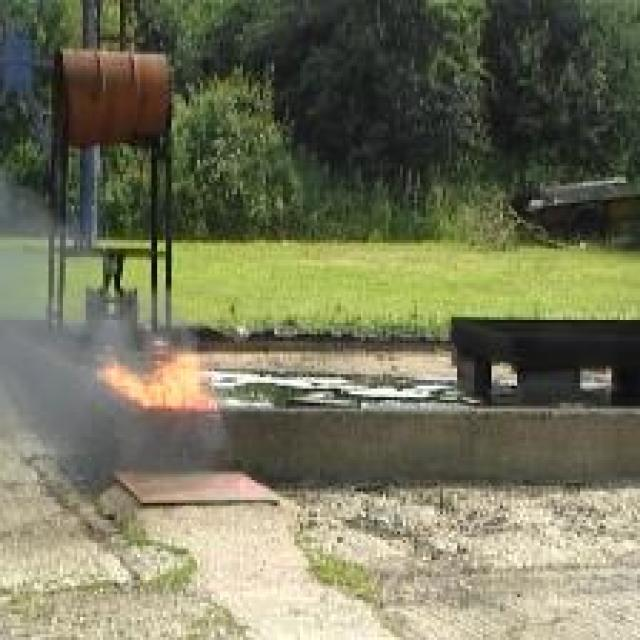Fire: (95, 354, 218, 409)
